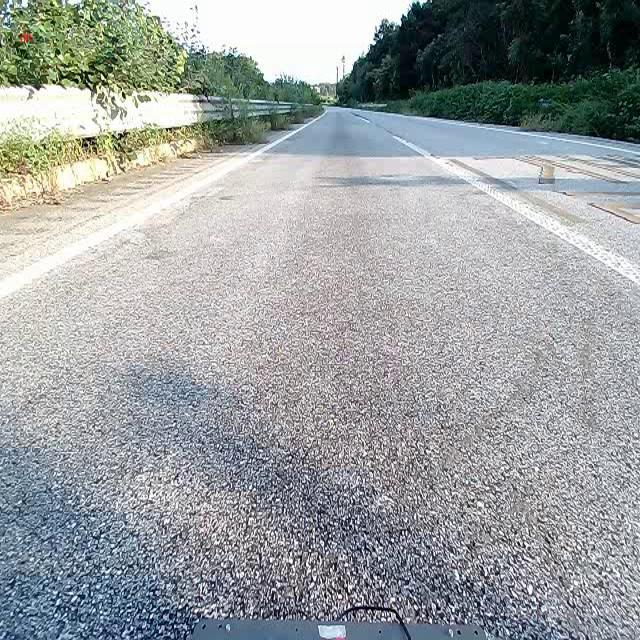Lane: (0, 102, 332, 304), (0, 118, 319, 302), (391, 130, 640, 298), (393, 136, 639, 289)
